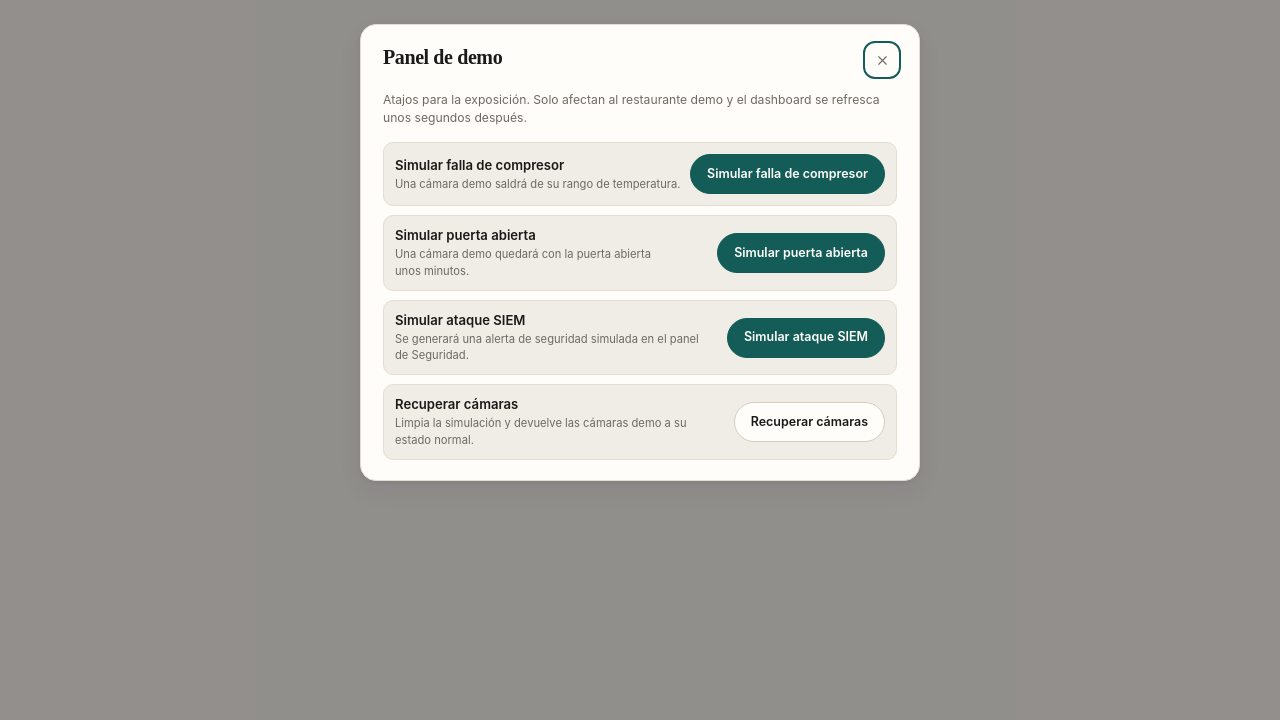
PanelDemo › explica un 404 cuando la simulación no está disponible
Step 1. Click the button "Simular falla de compresor" → (788,174), box [690,154,885,194]
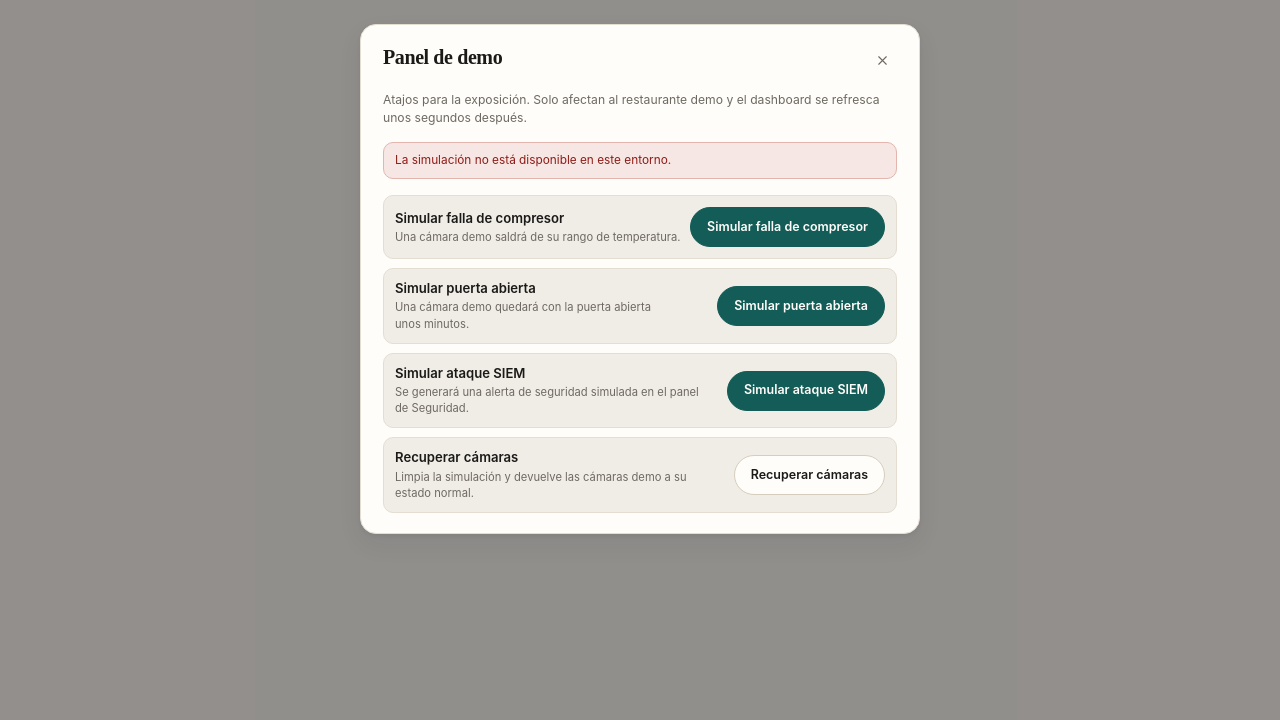
Check: the text "La simulación no está disponible en este entorno." is shown, box [383,142,897,180]
